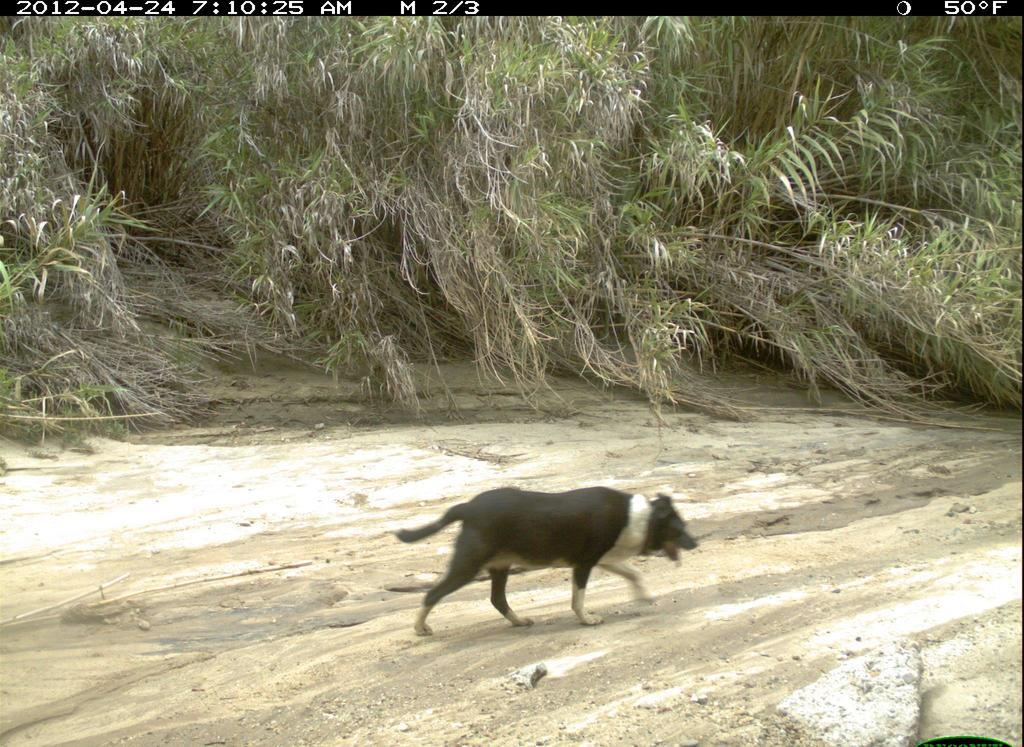dog: (368, 472, 715, 633)
